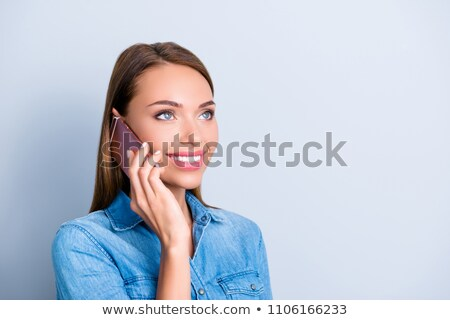phone: (107, 118, 153, 188)
talk: (102, 95, 225, 231)
